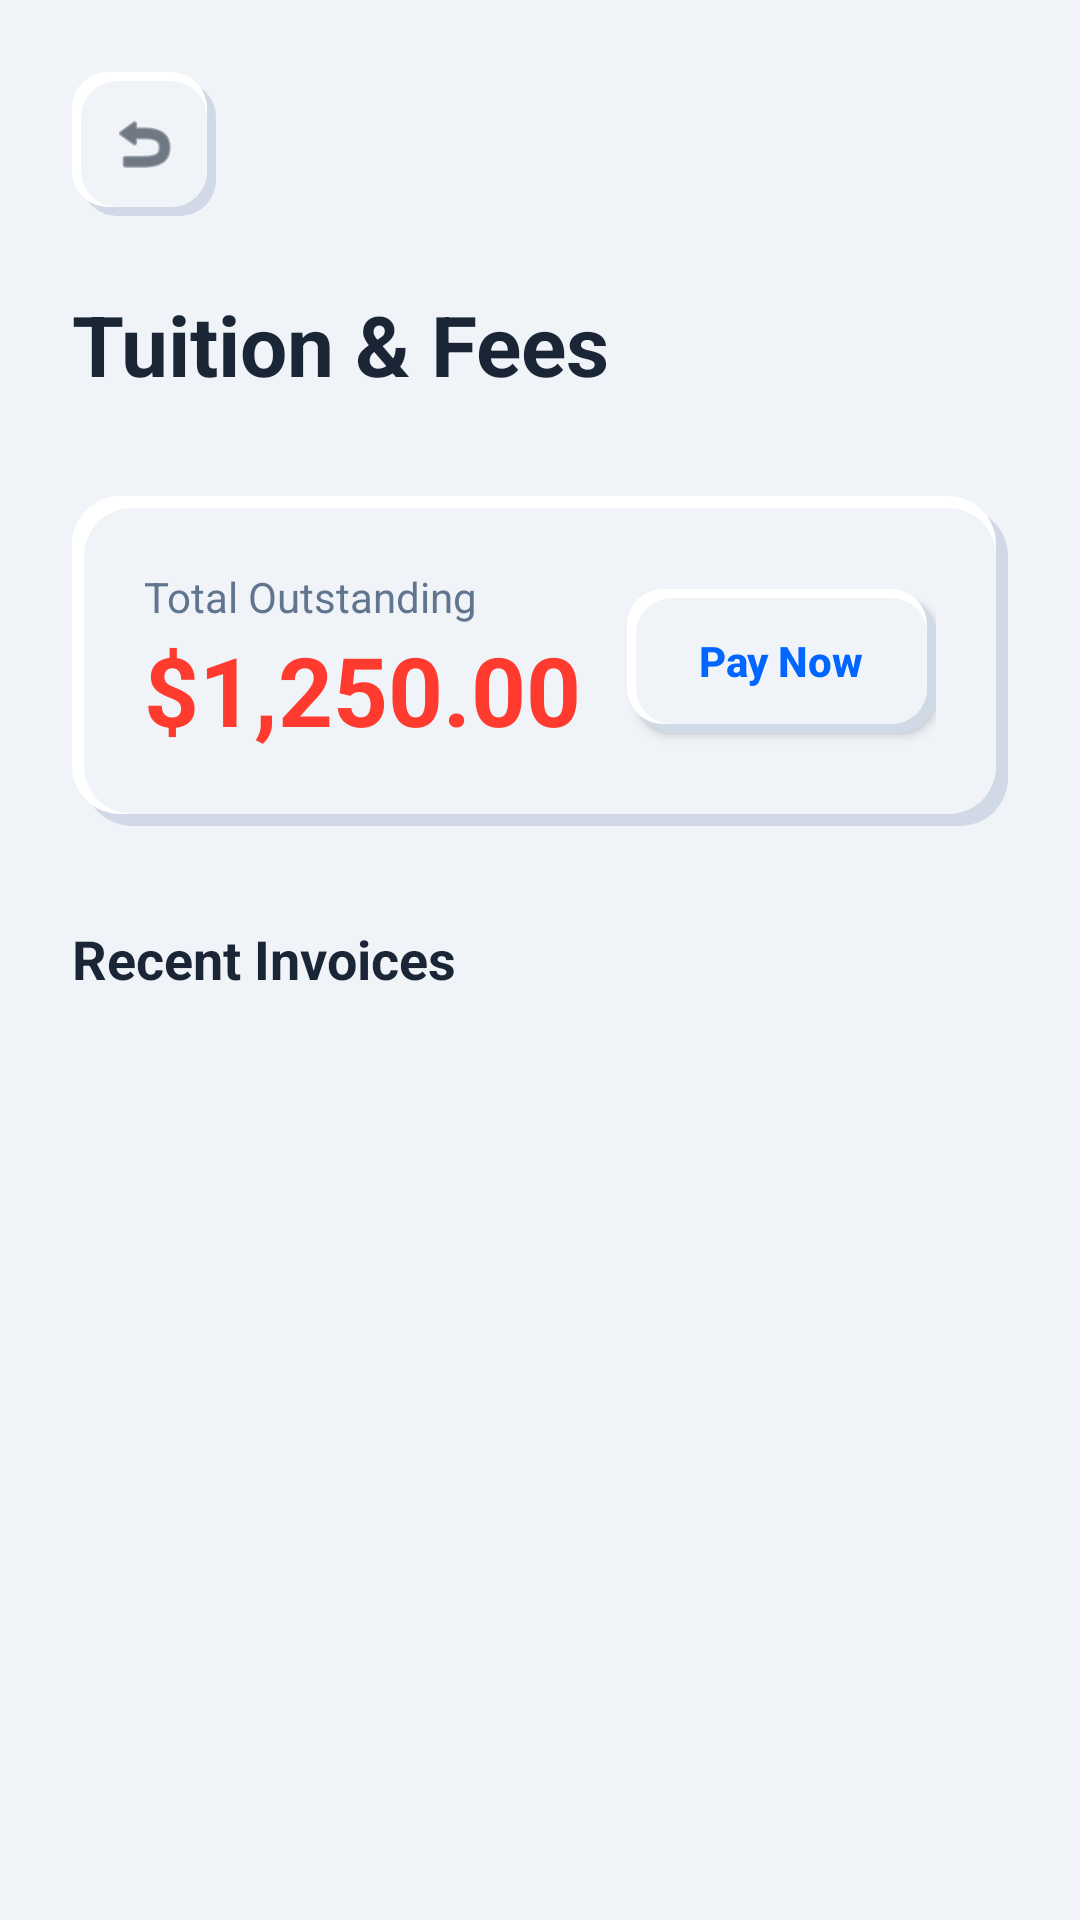

Where icons sit on this 1080*1920 app screen, as (x1, y1, x2, y2):
revert: (119, 121, 171, 168)
